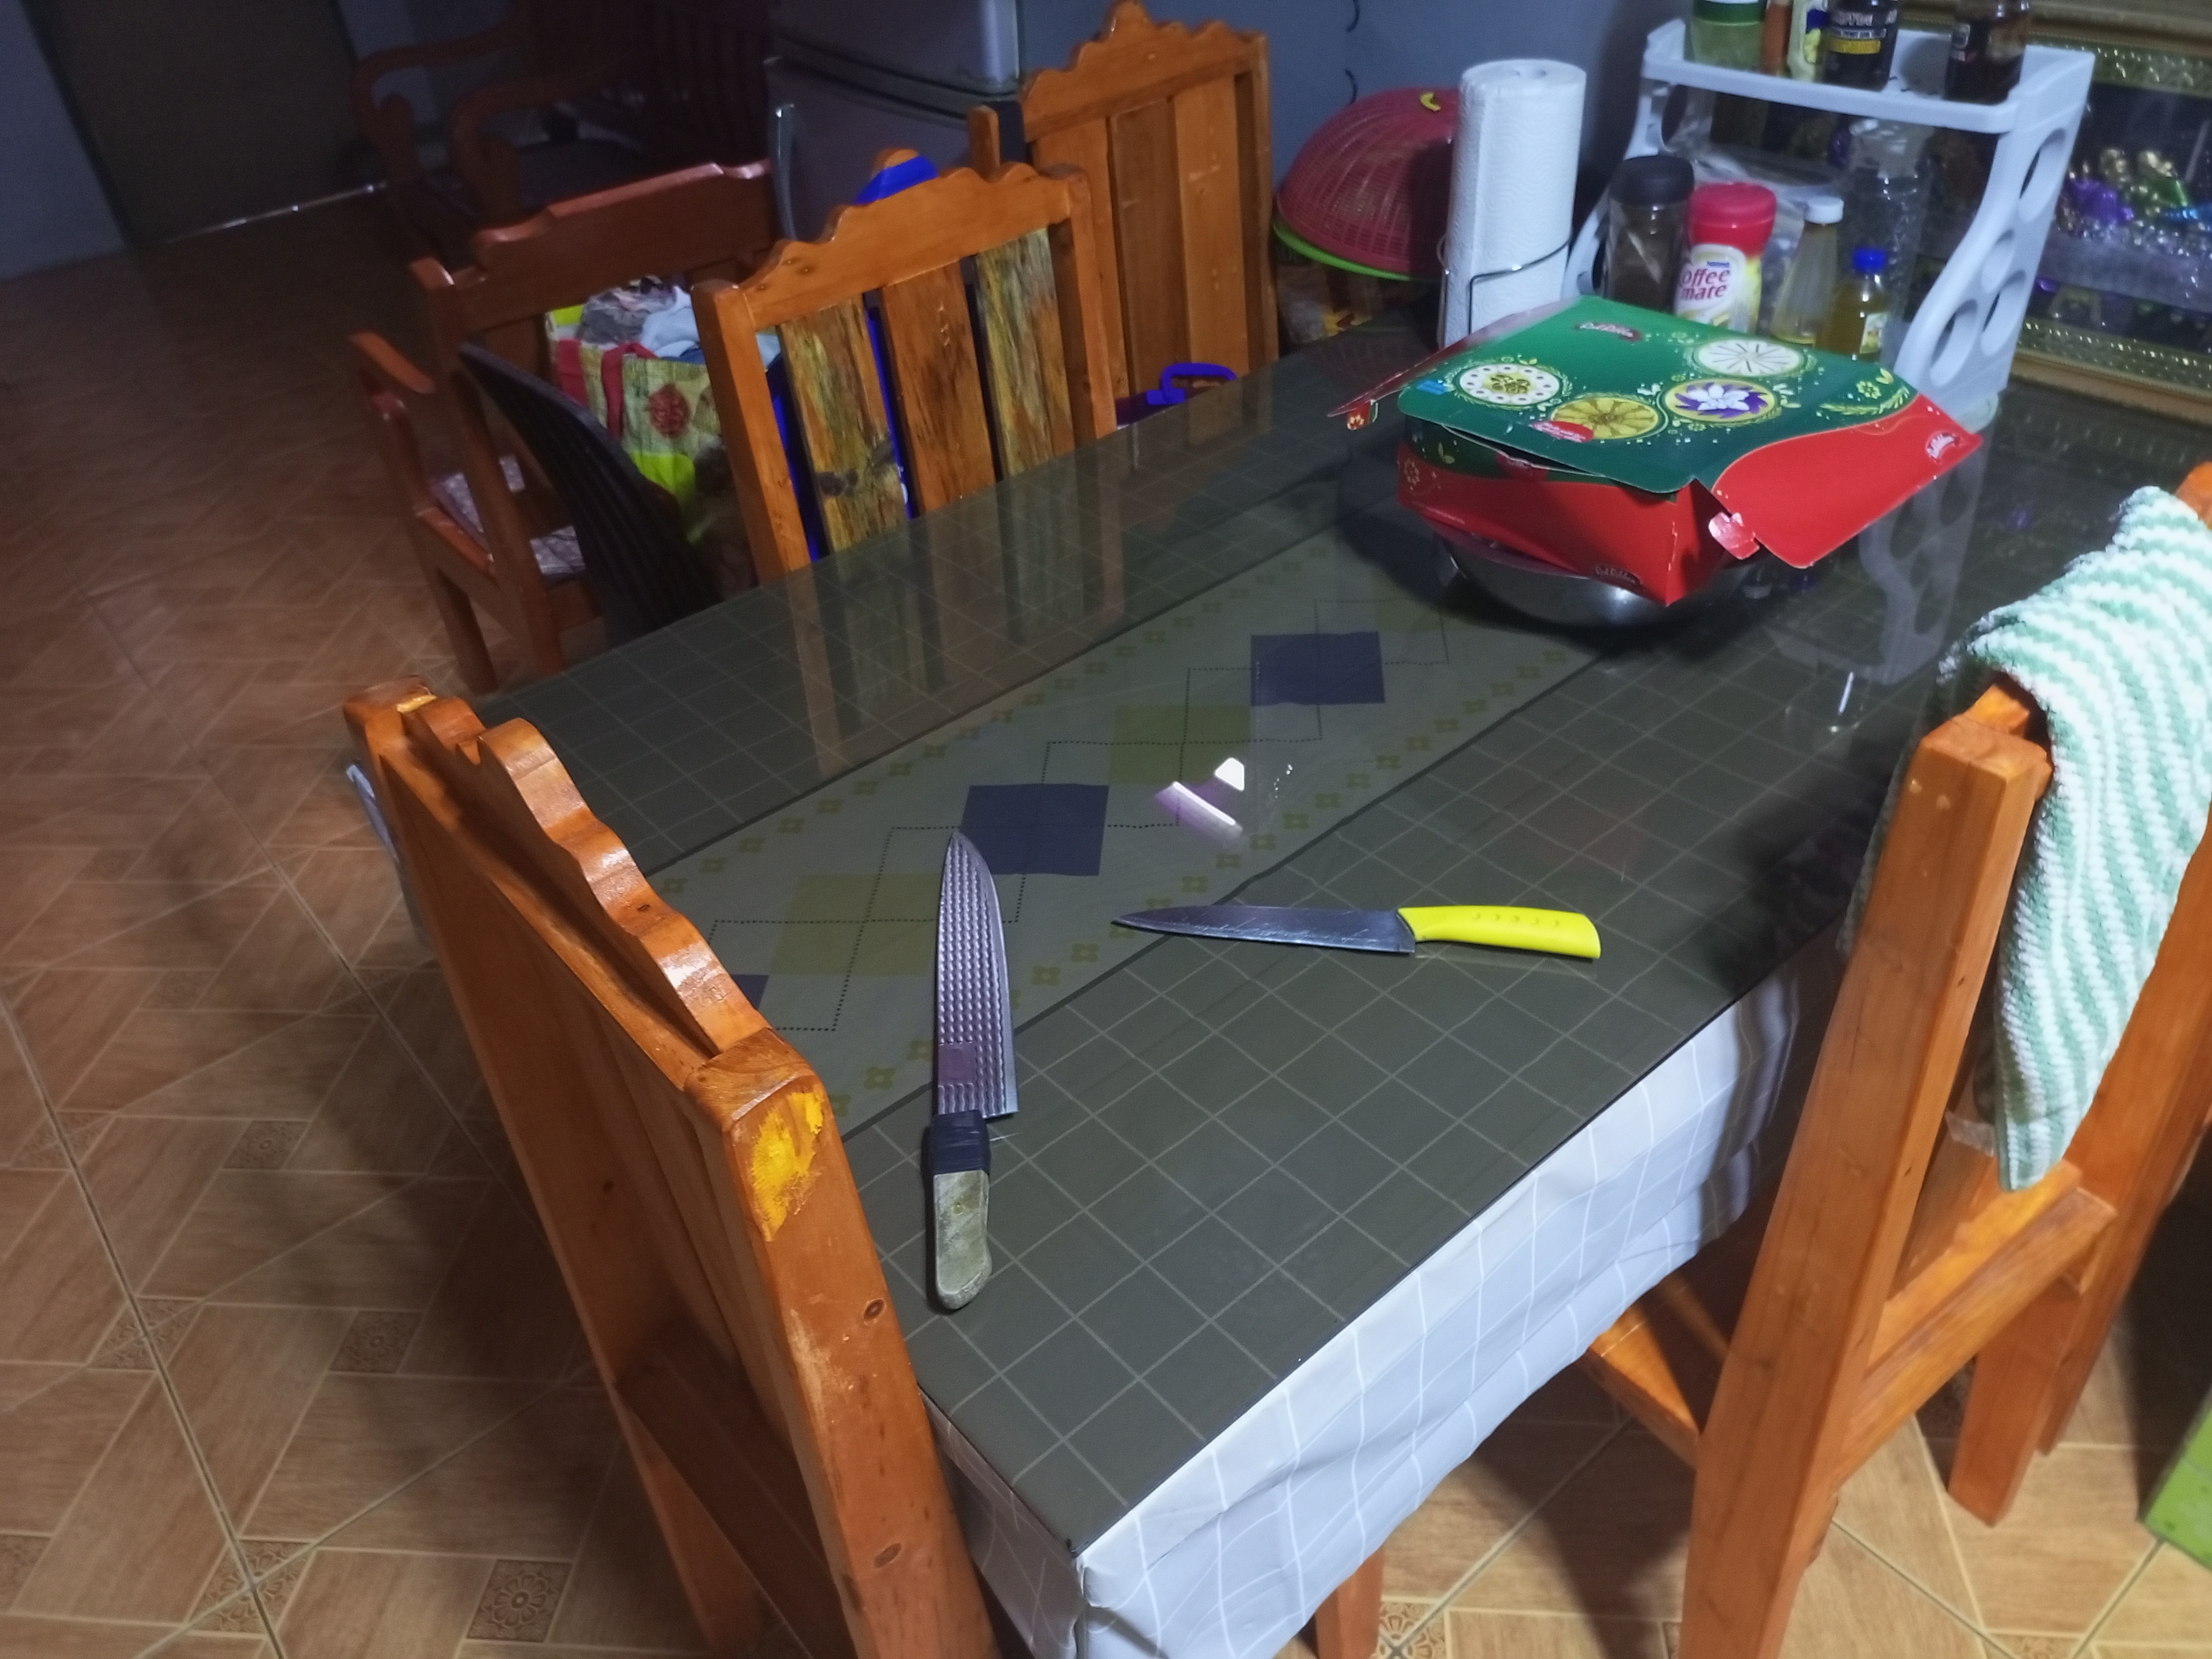knife: (927, 819, 1029, 1309), (1104, 904, 1608, 974)
